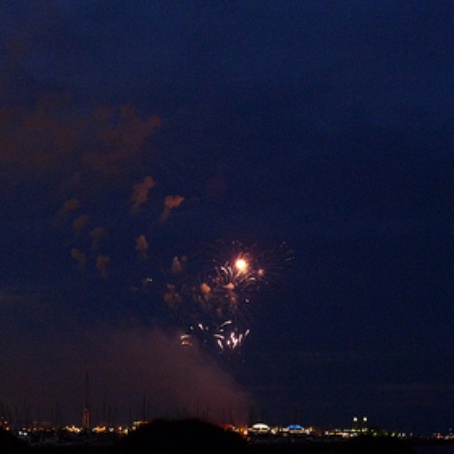fireworks: (166, 224, 295, 374)
sky: (1, 1, 441, 430)
